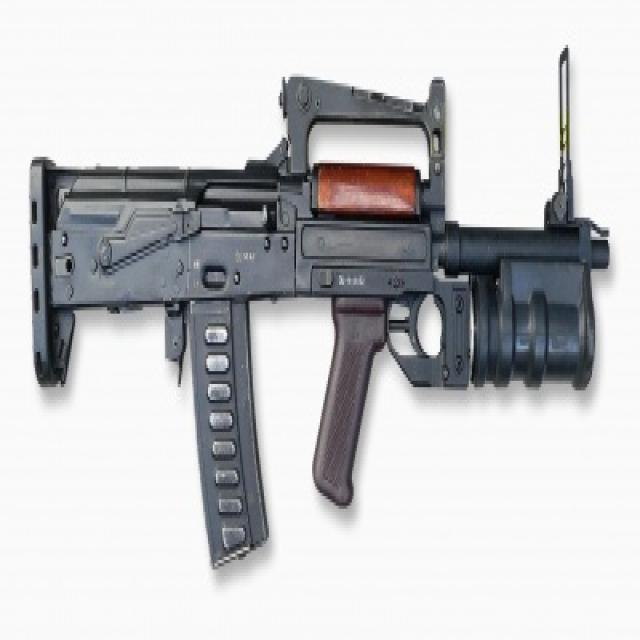rifle: (21, 40, 620, 584)
